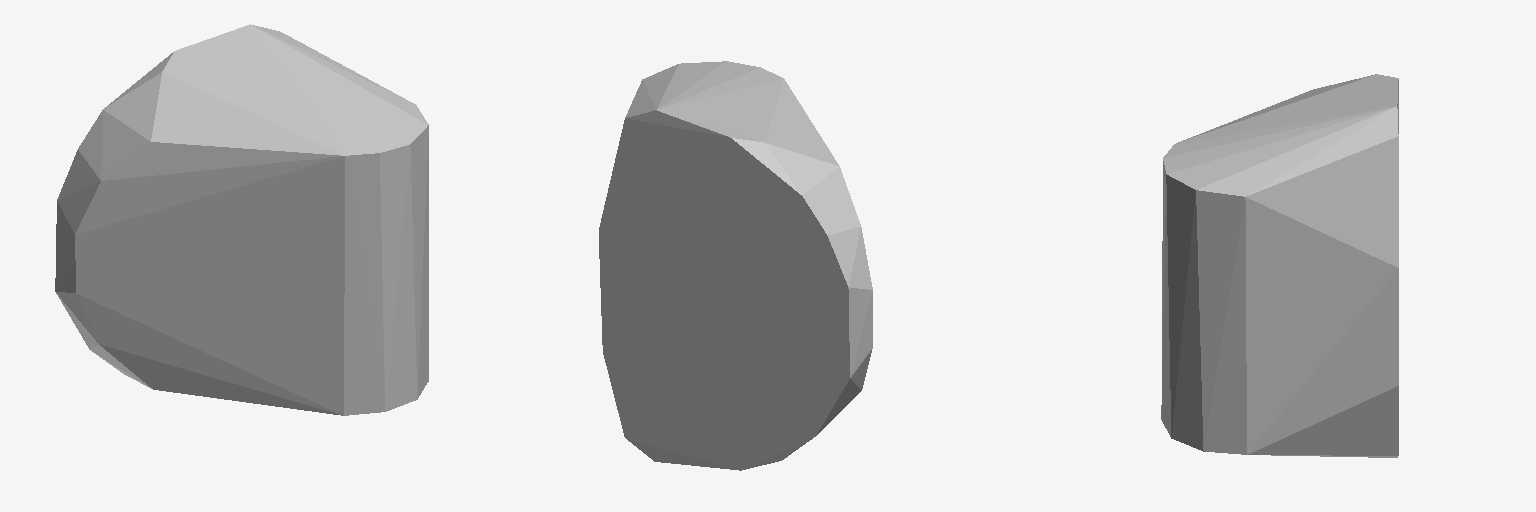
The model's file is head_pan_collision.obj.
3 renders of one model, left to right at view 1: azimuth 30°, elevation 25°; view 2: azimuth 150°, elevation 25°; view 3: azimuth 270°, elevation 25°, orthographic.
Bounding box in the file's own units: 0.1048 × 0.1231 × 0.0753.